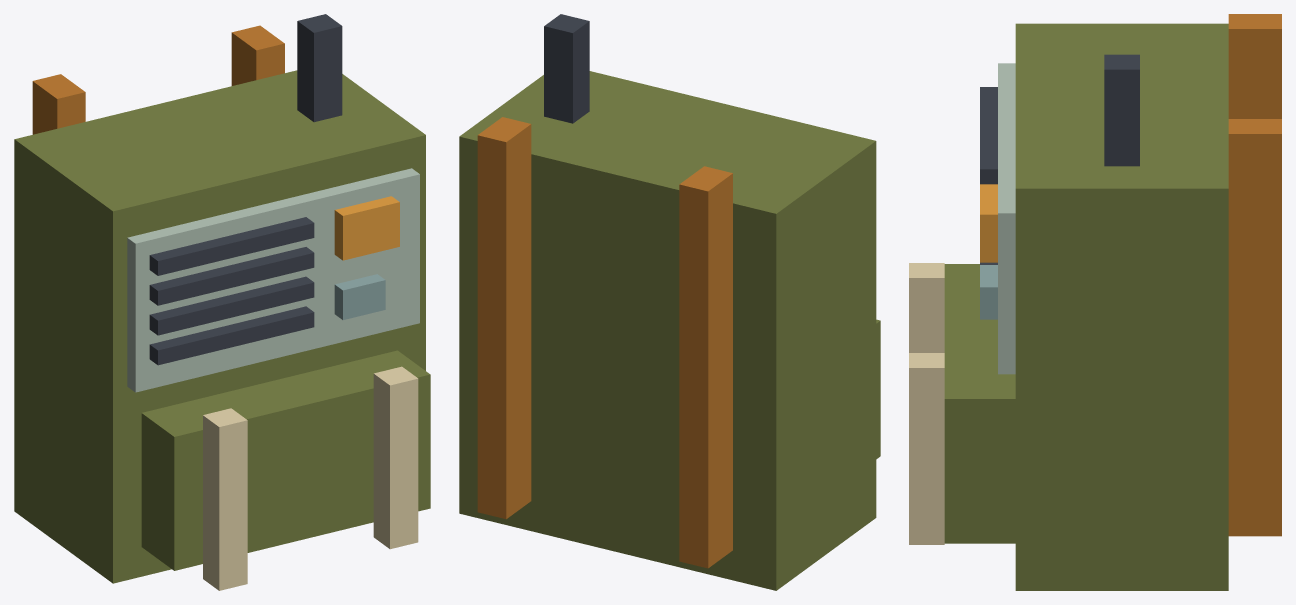
File: voxel_32_20062.glb
3 views of the same model, side by side, from view 1: azimuth 30°, elevation 25°; view 2: azimuth 150°, elevation 25°; view 3: azimuth 270°, elevation 25° (orthographic). The views are drawn at different scales.
Visible parts, largest first — view 1: prop_20062; view 2: prop_20062; view 3: prop_20062.
Part boxes in pixels (x1,y1,x2,y2): prop_20062: (14,14,430,590); prop_20062: (459,14,880,590); prop_20062: (909,14,1281,590).
Size of the model in its own units: 0.5706 by 0.8041 by 0.5447.
